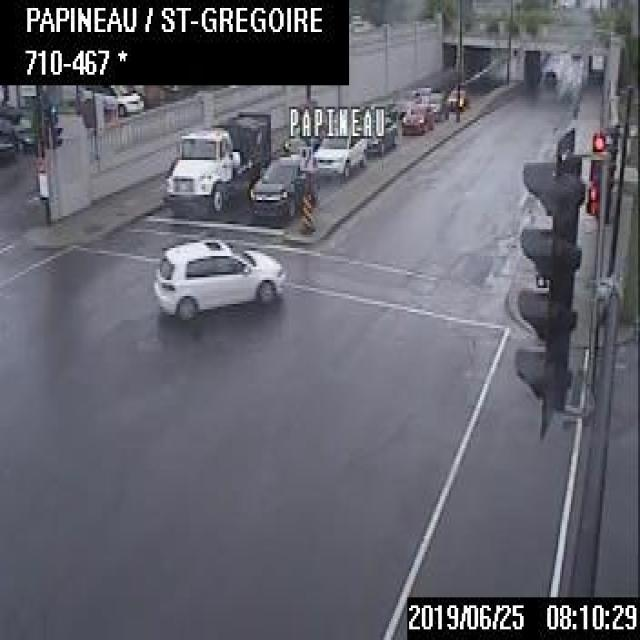vehicle: (151, 235, 289, 322), (162, 109, 272, 218), (247, 151, 314, 218), (313, 130, 367, 180), (80, 83, 147, 114), (364, 116, 396, 155), (399, 100, 433, 132), (445, 83, 468, 111)
